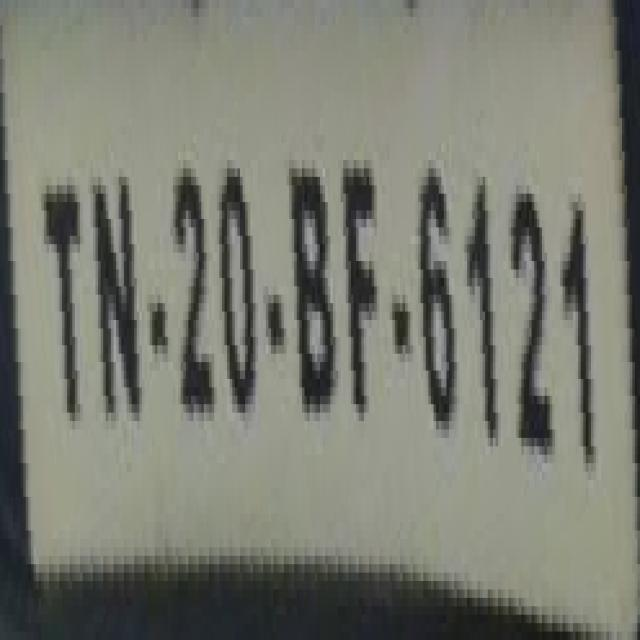license_plate: (10, 34, 599, 547)
